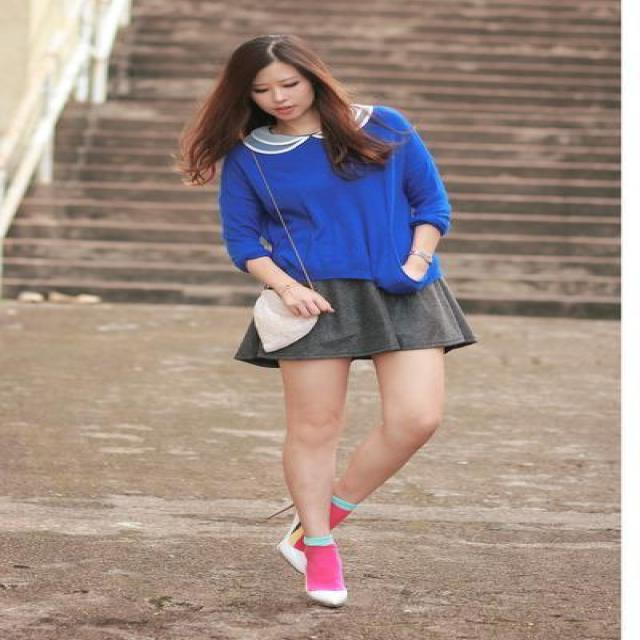bag: (254, 301, 316, 344)
jacket: (219, 103, 450, 288)
shoe: (277, 502, 357, 603)
skirt: (234, 276, 488, 367)
